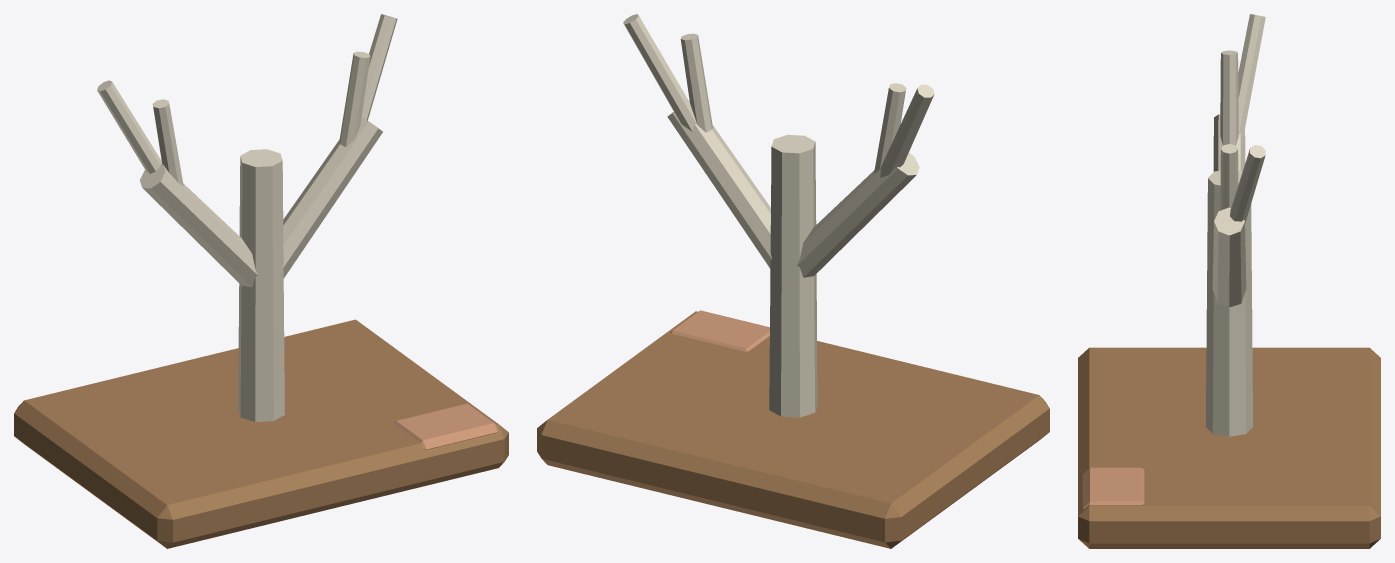
3 renders of one model, left to right at view 1: azimuth 30°, elevation 25°; view 2: azimuth 150°, elevation 25°; view 3: azimuth 270°, elevation 25°, orthographic. The views are drawn at different scales.
Parts seen in each view (by area): view 1: CE-059 Branching coral trade specimen batched; view 2: CE-059 Branching coral trade specimen batched; view 3: CE-059 Branching coral trade specimen batched.
Boxes of the visible parts, bbox=[...] form: CE-059 Branching coral trade specimen batched: bbox=[14, 14, 508, 548]; CE-059 Branching coral trade specimen batched: bbox=[537, 14, 1049, 548]; CE-059 Branching coral trade specimen batched: bbox=[1078, 14, 1380, 548].
Size of the model in its own units: 0.42 by 0.4543 by 0.32.
